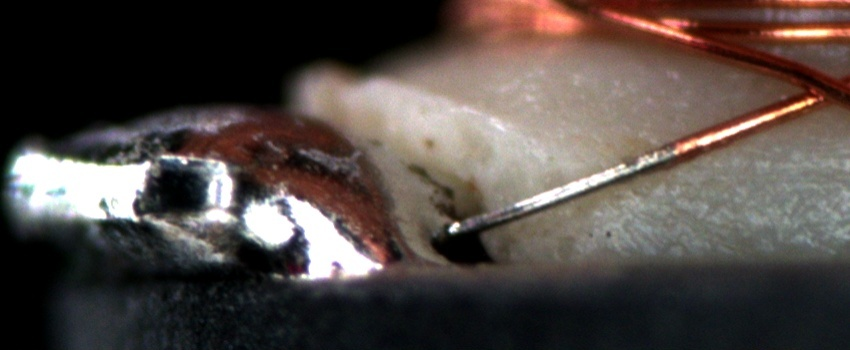CL: (777, 63, 847, 114)
DL: (647, 145, 850, 209)
TS: (434, 146, 678, 242)
